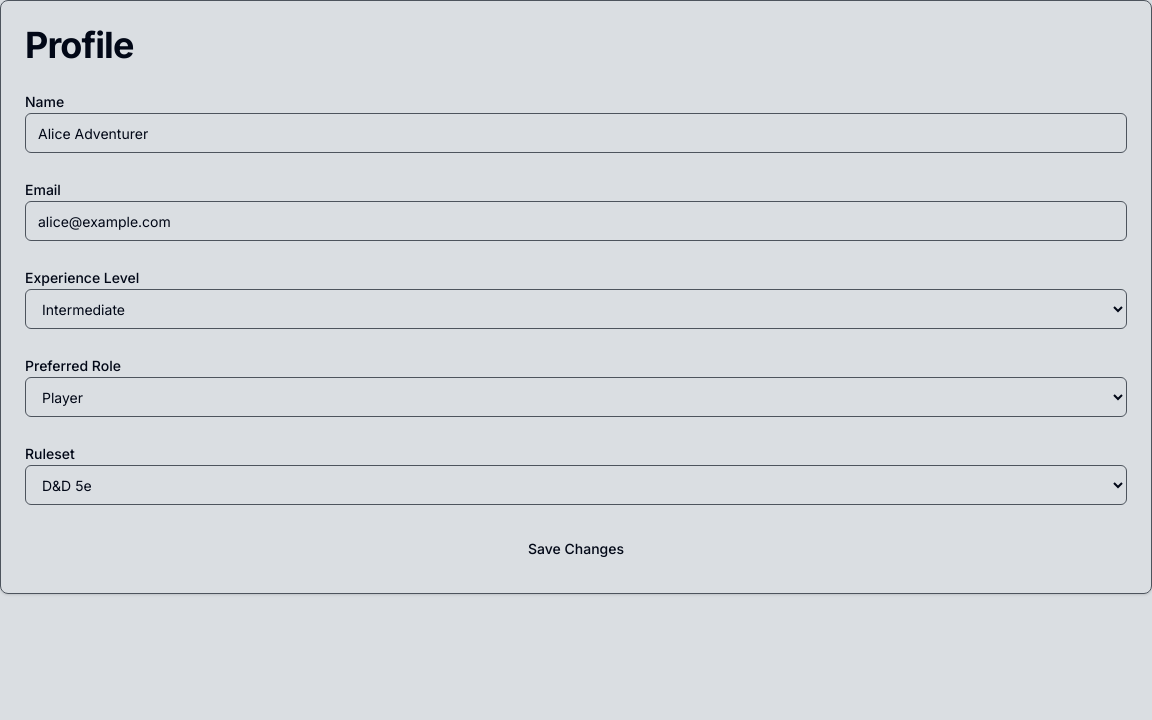
Test: ProfileForm › displays validation errors on field blur with invalid email
// Clear and enter invalid email
Click the field showing "alice@example.com" below "Email" at (576, 221), box [25,201,1127,241]
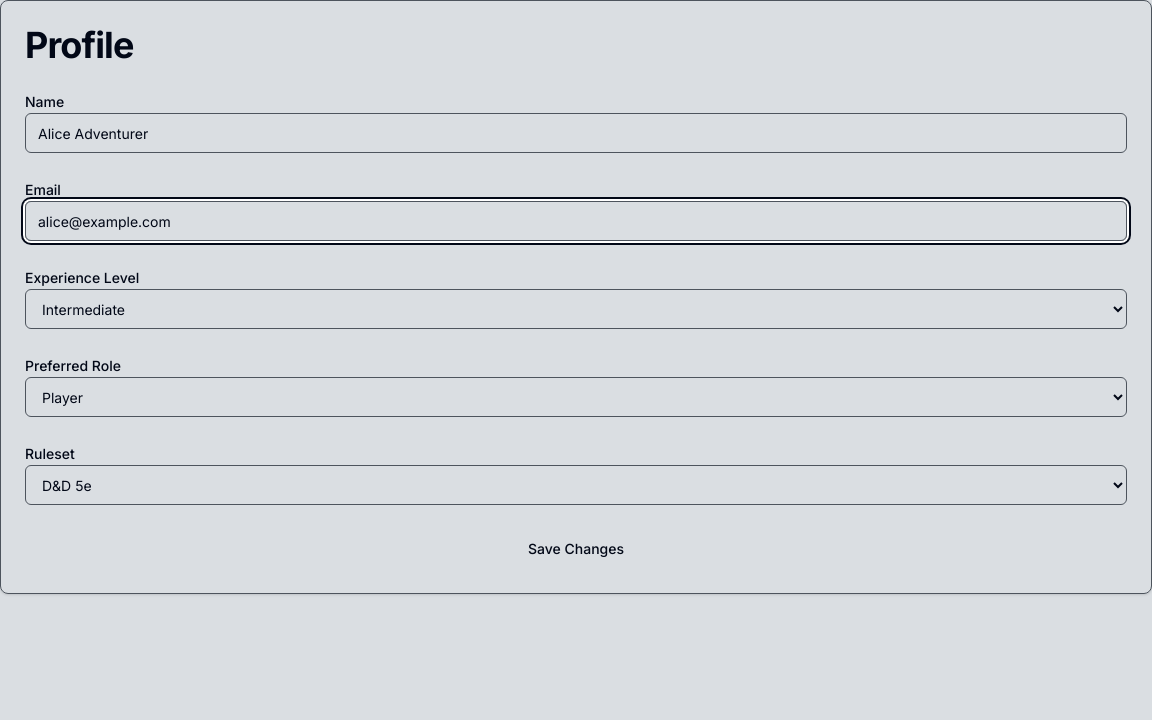
Type keys "invalid-email"
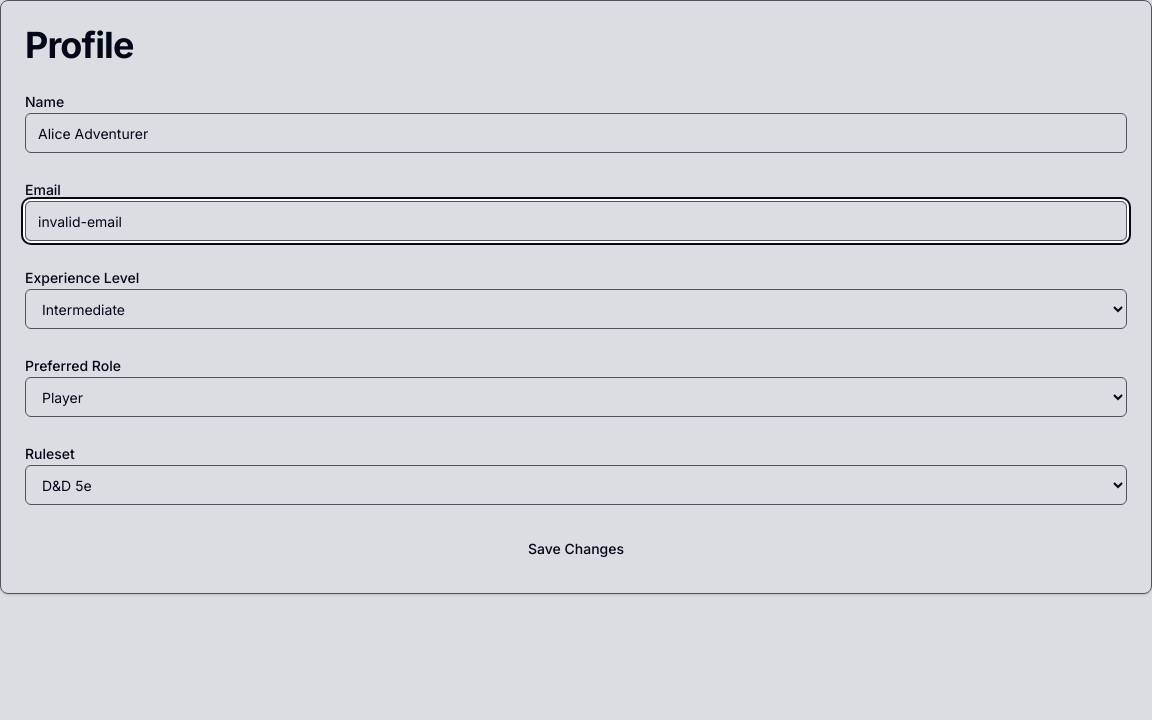
// Blur the field
Leave the field showing "alice@example.com" below "Email", box [25,201,1127,241]
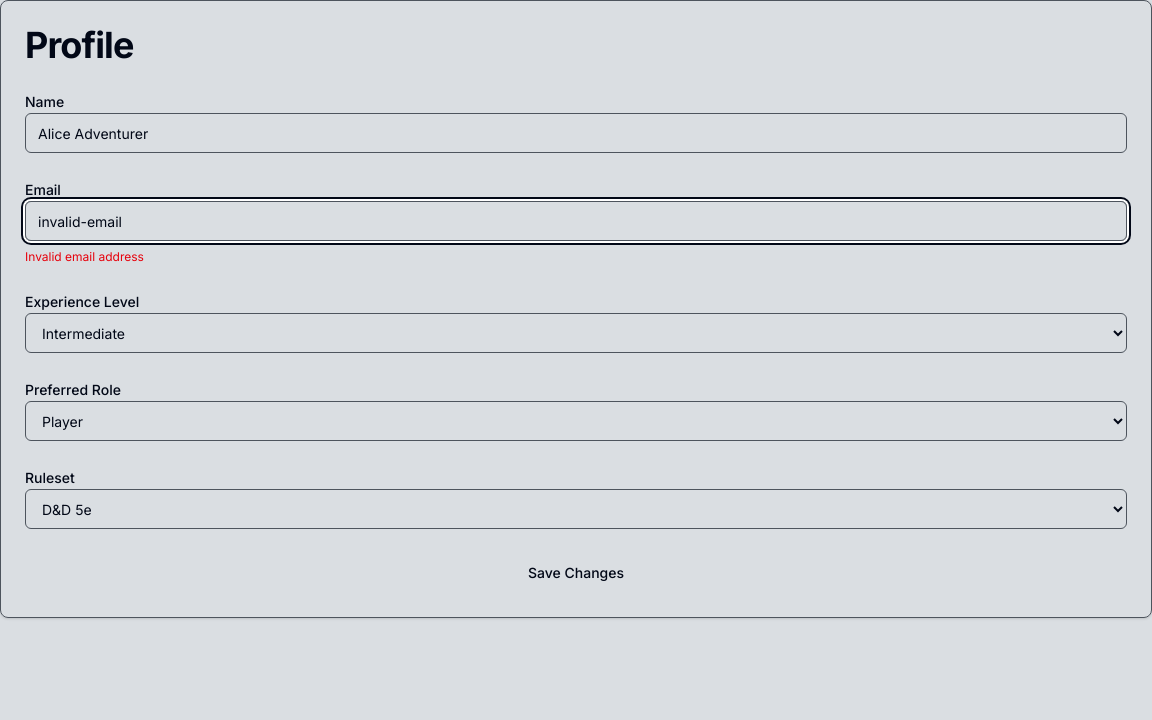
Expected: the text "Invalid email address" is shown, [25,249,144,264]
